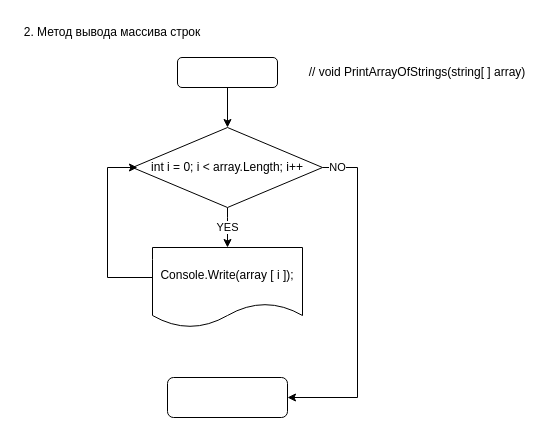
Image size: 554x435. Some labels were removed from this diagram. Here are the shapes that lost their labels. From the top down, the centre of each, then its label:
the point at 227,72: Начало
the point at 227,397: Конец
